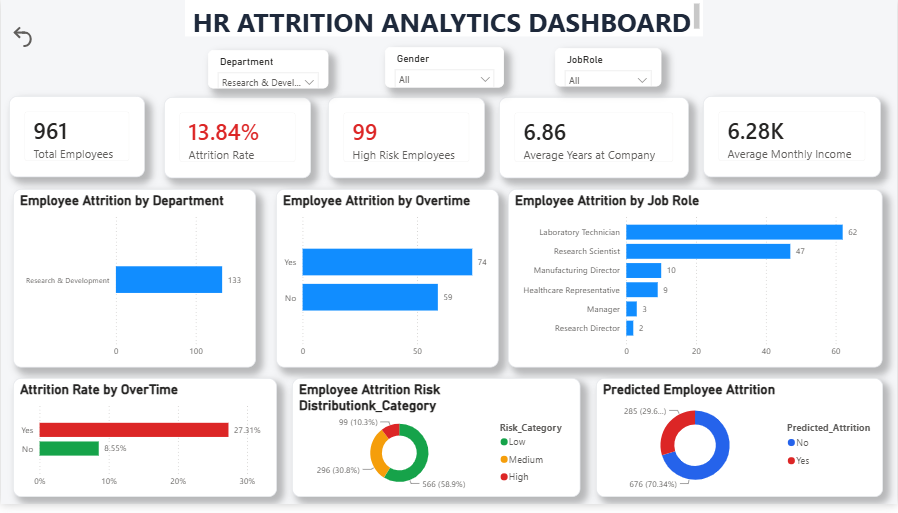

What the dashboard file says about the page in this screenshot:
{"tool":"powerbi","page":{"name":"Executive Dashboard","canvas":[1280,720],"ordinal":0},"visuals":[{"type":"textbox","box":[262.9,0,740.5,52.3],"z":0},{"type":"cardVisual","fields":{"Data":["HR_data.Total Employees"]},"box":[11.4,137.1,194.3,115.7],"z":1000},{"type":"cardVisual","fields":{"Data":["HR_data.High Risk Employees"]},"box":[467.1,138.6,224.3,115.7],"z":2000},{"type":"cardVisual","fields":{"Data":["HR_data.Attrition Rate"]},"box":[232.9,138.6,210,115.7],"z":3000},{"type":"cardVisual","fields":{"Data":["HR_data.Average Monthly Income"]},"box":[1002.9,137.1,254.3,115.7],"z":4000},{"type":"cardVisual","fields":{"Data":["HR_data.Average Years at Company"]},"box":[711.4,138.6,271.4,115.7],"z":5000},{"type":"clusteredBarChart","title":"Employee Attrition by Department","fields":{"Category":["HR_data.Department"],"Y":["HR_data.Attrition Count"]},"box":[16.7,270,346.7,255],"z":6000},{"type":"clusteredBarChart","title":"Employee Attrition by Overtime","fields":{"Category":["HR_data.OverTime"],"Y":["HR_data.Attrition Count"]},"box":[393.3,270,318.3,255],"z":7000},{"type":"clusteredBarChart","title":"Employee Attrition by Job Role","fields":{"Category":["HR_data.JobRole"],"Y":["HR_data.Attrition Count"]},"box":[725,270,535,255],"z":8000},{"type":"clusteredBarChart","fields":{"Category":["HR_data.OverTime"],"Y":["HR_data.Attrition Rate"]},"box":[16.7,540,376.7,170],"z":9000},{"type":"donutChart","title":"Employee Attrition Risk Distributionk_Category","fields":{"Category":["HR_data.Risk_Category"],"Y":["CountNonNull(HR_data.Risk_Category)"]},"box":[415,540,411.7,170],"z":10000},{"type":"donutChart","title":"Predicted Employee Attrition","fields":{"Category":["HR_data.Predicted_Attrition"],"Y":["CountNonNull(HR_data.Predicted_Attrition)"]},"box":[850,540,410,170],"z":11000},{"type":"slicer","fields":{"Values":["HR_data.Department"]},"box":[295,71.7,171.7,55],"z":12000},{"type":"slicer","fields":{"Values":["HR_data.Gender"]},"box":[548.3,66.7,170,58.3],"z":13000},{"type":"slicer","fields":{"Values":["HR_data.JobRole"]},"box":[791.7,68.3,151.7,55],"z":14000},{"type":"actionButton","box":[12,32.5,100.8,39.3],"z":15000}]}

Visuals, with their boxes in screenshot pixels (x1, y1, x2, y2), scaled from the page's 1280x720 canvas onto the 898x513 screenshot:
textbox: detection(184, 0, 704, 37)
cardVisual - HR_data.Total Employees: detection(8, 98, 144, 180)
cardVisual - HR_data.High Risk Employees: detection(328, 99, 485, 181)
cardVisual - HR_data.Attrition Rate: detection(163, 99, 311, 181)
cardVisual - HR_data.Average Monthly Income: detection(704, 98, 882, 180)
cardVisual - HR_data.Average Years at Company: detection(499, 99, 689, 181)
"Employee Attrition by Department" clusteredBarChart: detection(12, 192, 255, 374)
"Employee Attrition by Overtime" clusteredBarChart: detection(276, 192, 499, 374)
"Employee Attrition by Job Role" clusteredBarChart: detection(509, 192, 884, 374)
clusteredBarChart - HR_data.OverTime x HR_data.Attrition Rate: detection(12, 385, 276, 506)
"Employee Attrition Risk Distributionk_Category" donutChart: detection(291, 385, 580, 506)
"Predicted Employee Attrition" donutChart: detection(596, 385, 884, 506)
slicer - HR_data.Department: detection(207, 51, 327, 90)
slicer - HR_data.Gender: detection(385, 48, 504, 89)
slicer - HR_data.JobRole: detection(555, 49, 662, 88)
actionButton: detection(8, 23, 79, 51)
